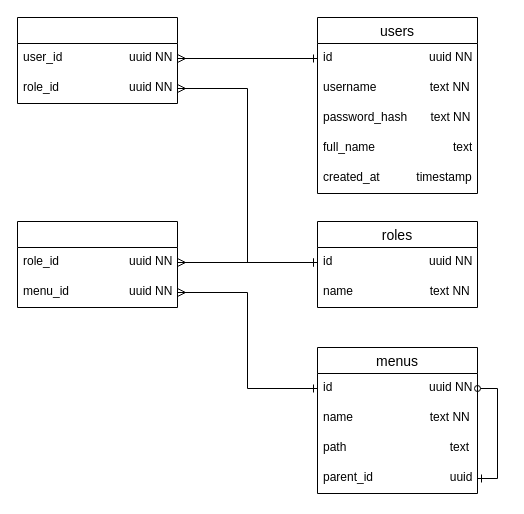
The diagram is 524 pixels wide and 514 high, and some of its shapes have lost their labels. The shapes that lost their labels are listed below. From the top down, each one's box as (x1, y1, x2, y2) in pixels, then its label:
(16, 16, 178, 104): user_roles
(16, 220, 178, 308): roles_menu_access
